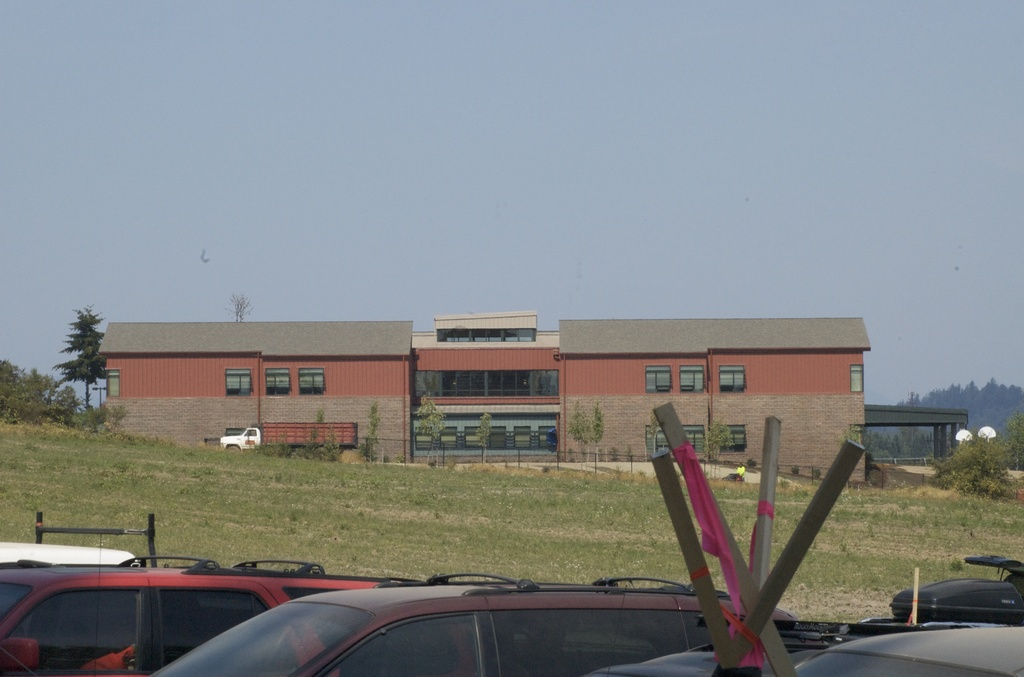Car: (129, 569, 798, 676), (605, 554, 1023, 676), (0, 564, 386, 676)
